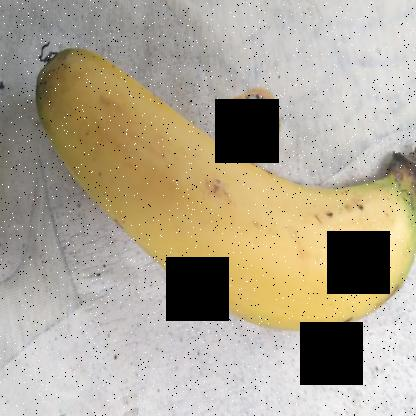freshripe: (28, 43, 416, 344)
